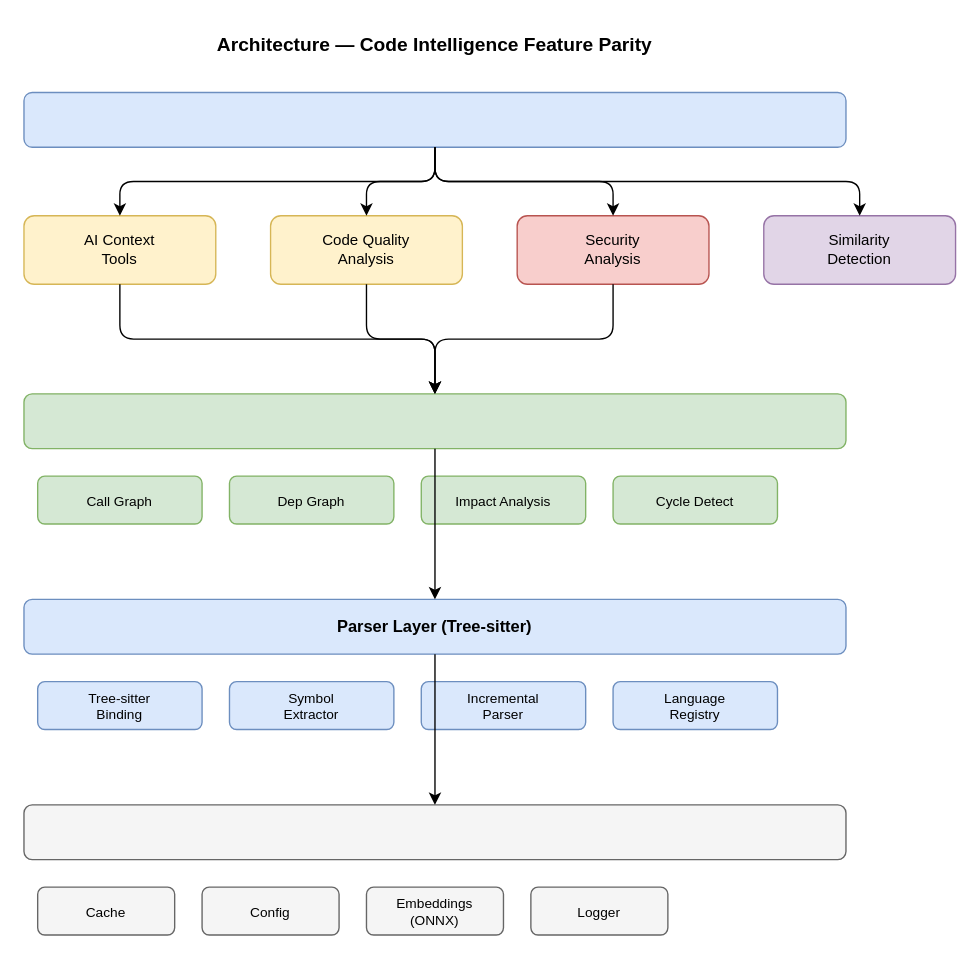
Image size: 980x959. Some labels were removed from this diagram. Here are the shapes that lost their labels. From the top down, the centre of each, then its label:
the point at 434,119: MCP Tool Interface
the point at 434,421: Graph Engine
the point at 434,832: Infrastructure
